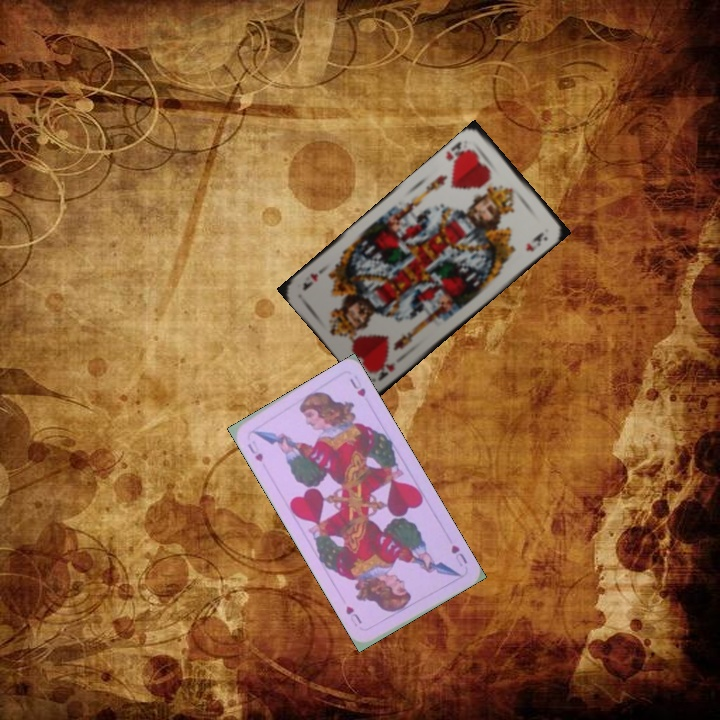HK: (441, 137, 473, 168), (370, 358, 398, 383)
HU: (447, 541, 470, 569), (243, 436, 266, 464)
